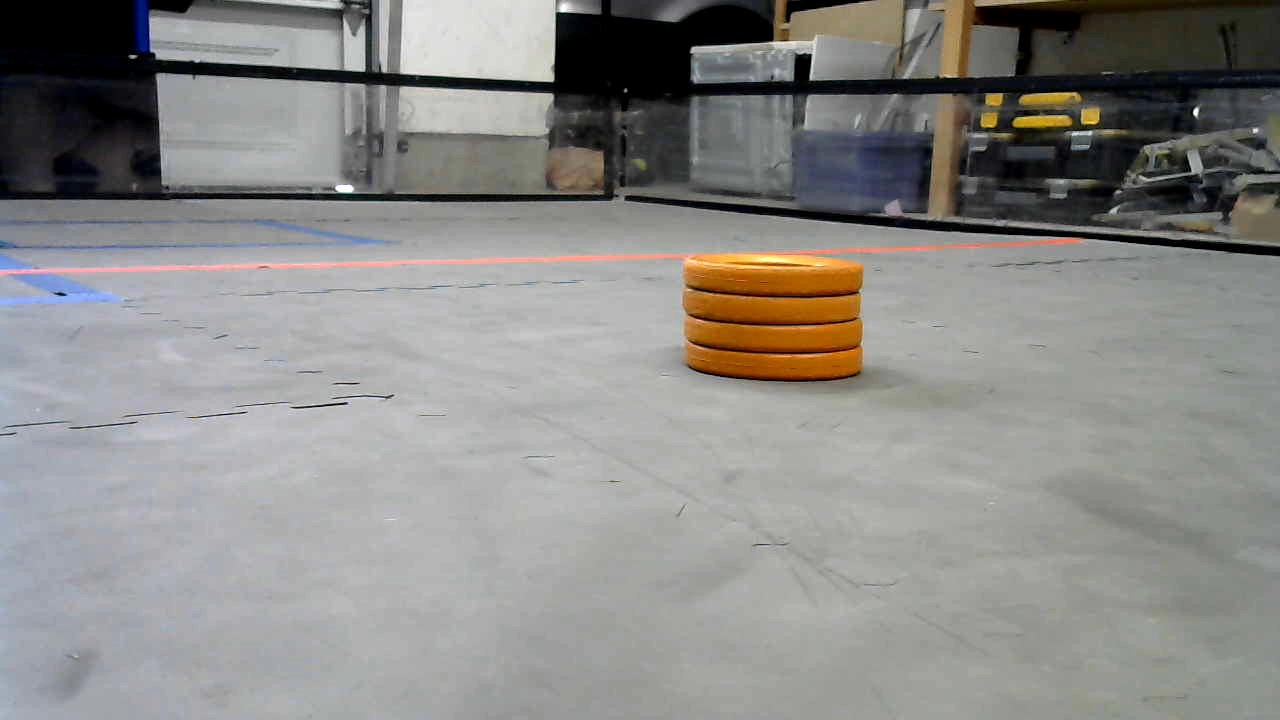FourStack: (682, 255, 866, 384)
